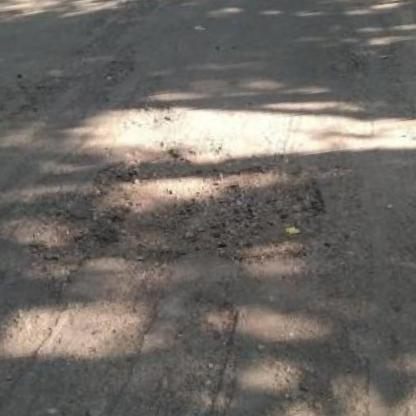pothole: (74, 136, 341, 279)
